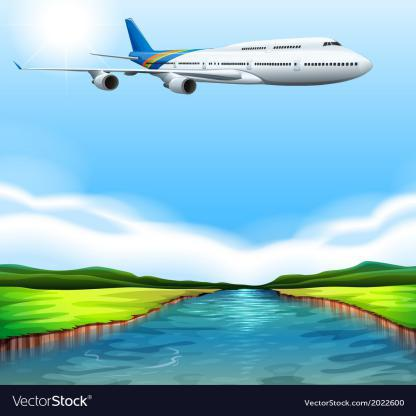CIV_Plane: (9, 14, 376, 101)
